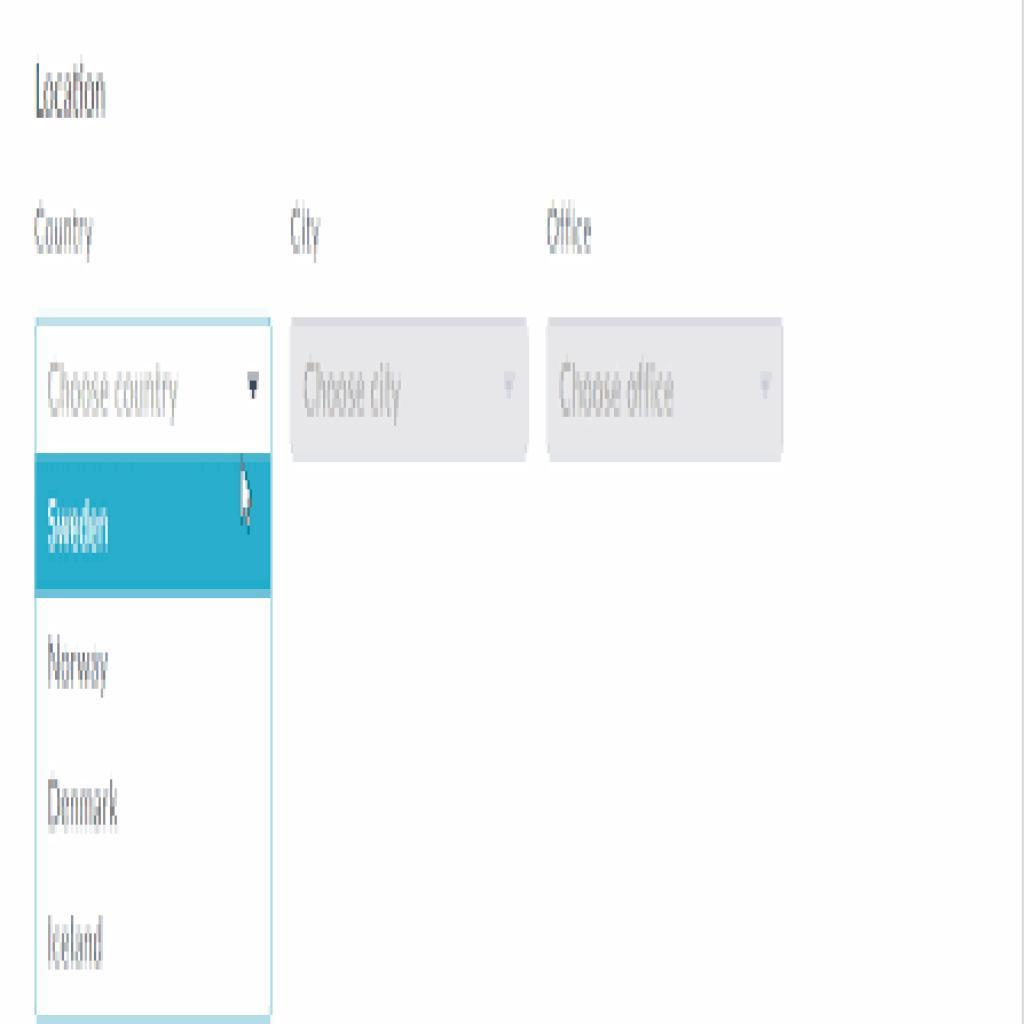dropdown: (549, 317, 788, 464), (290, 320, 532, 462), (35, 319, 277, 455)
